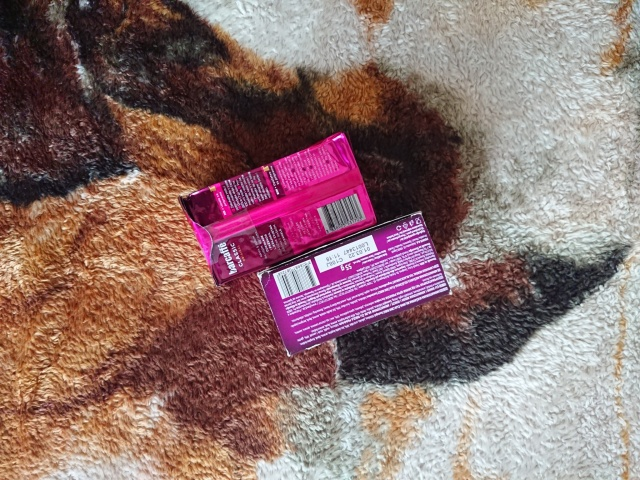Barcaffe Classic Original 225g: (175, 128, 380, 289)
Franck Black Currant Tea 60g: (254, 208, 454, 360)
